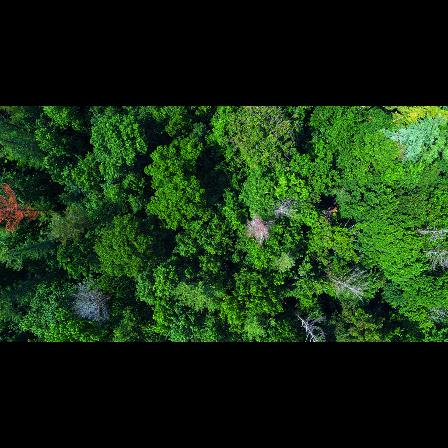Dead: (74, 281, 117, 322), (284, 304, 330, 342), (324, 272, 374, 299), (248, 214, 273, 248), (273, 197, 300, 223), (416, 222, 448, 241), (418, 248, 448, 268)
